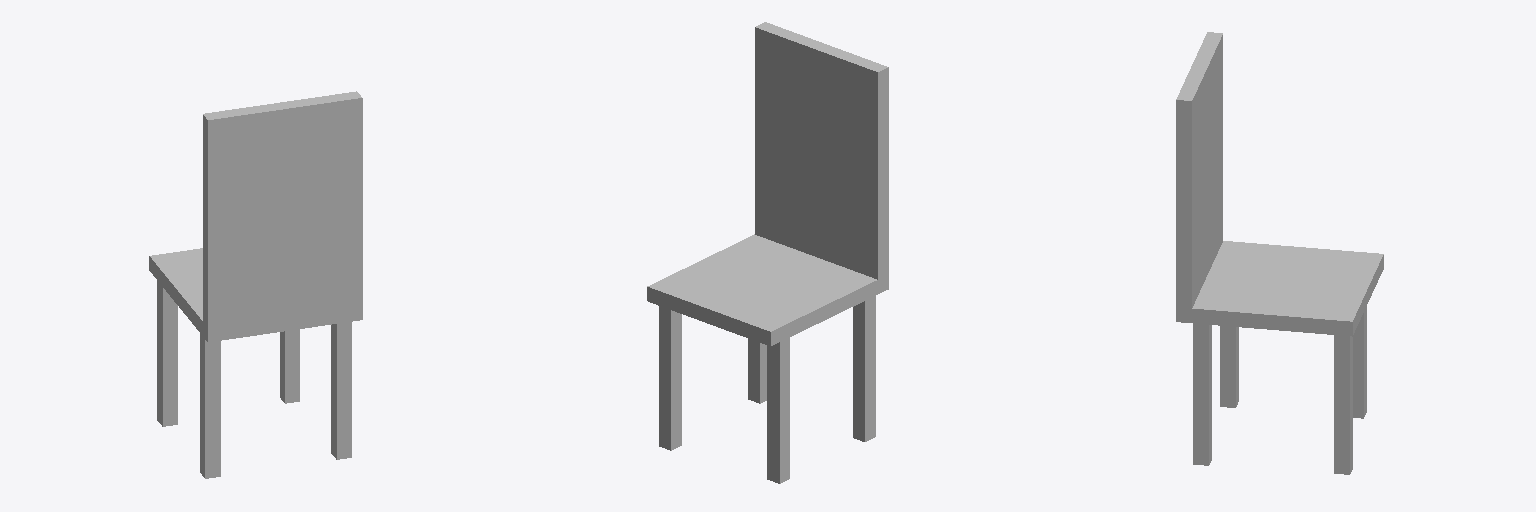
The model's file is Chair1.obj.
3 views of the same model, side by side, from view 1: azimuth 30°, elevation 25°; view 2: azimuth 150°, elevation 25°; view 3: azimuth 270°, elevation 25° (orthographic).
Visible parts, largest first — view 1: Chair1; view 2: Chair1; view 3: Chair1.
Boxes of the visible parts, box(x1,y1,x2,y2) form: Chair1: box(149, 91, 362, 478); Chair1: box(647, 22, 888, 483); Chair1: box(1176, 32, 1383, 474).
Size of the model in its own units: 1.19 by 2.47 by 1.27.